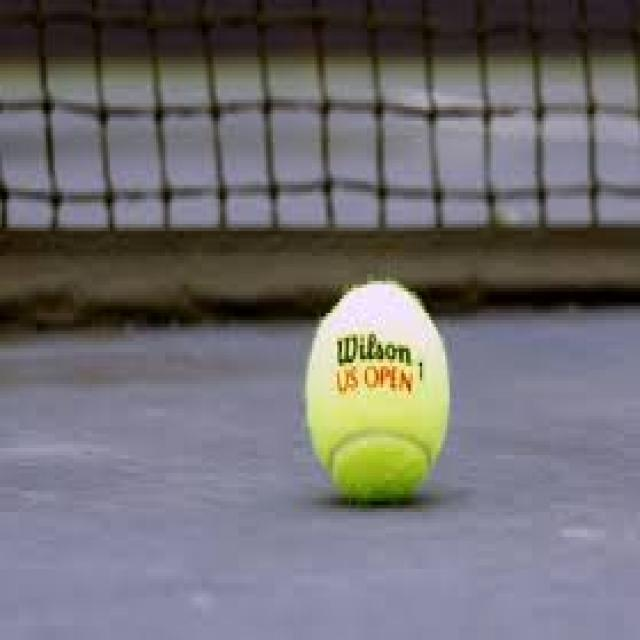Tennis-Ball: (306, 278, 452, 503)
